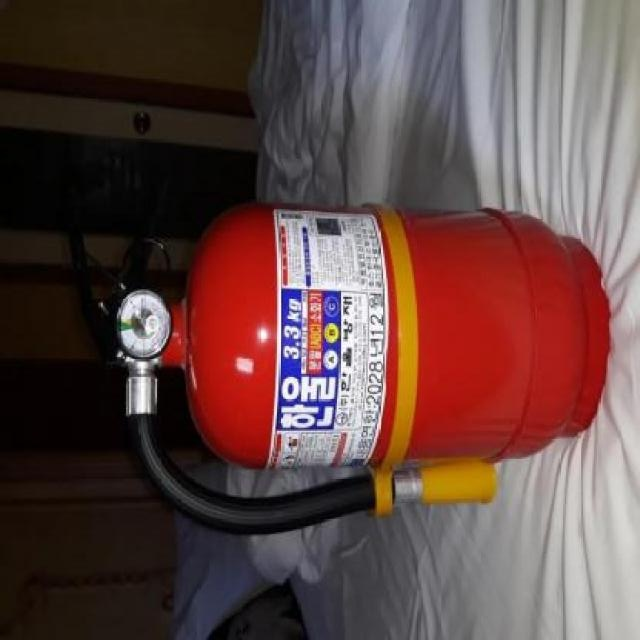fire extinguisher: (69, 183, 609, 535)
